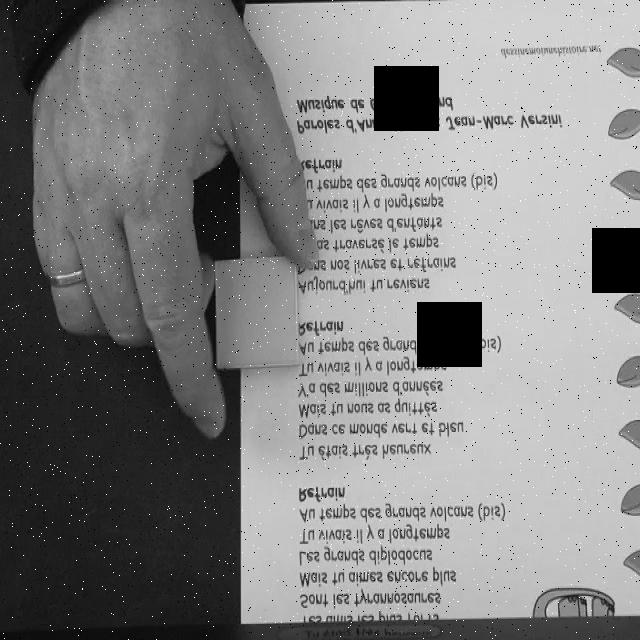square: (214, 253, 301, 372)
